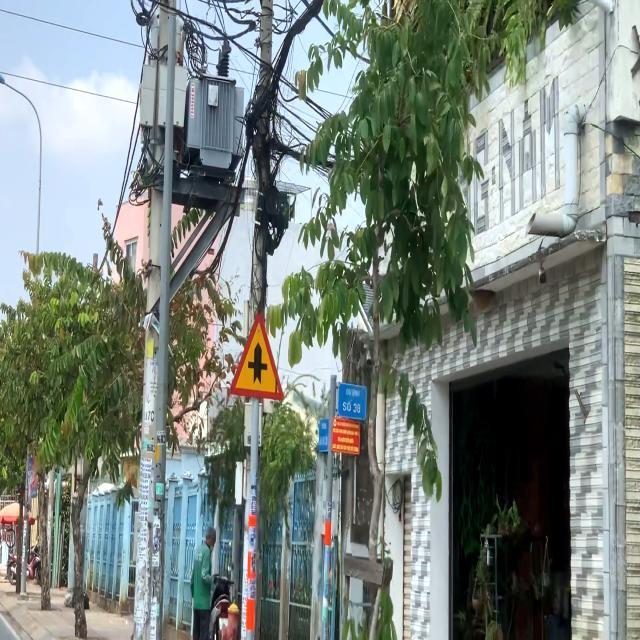Giao nhau voi duong khong uu tien: (228, 310, 286, 401)
